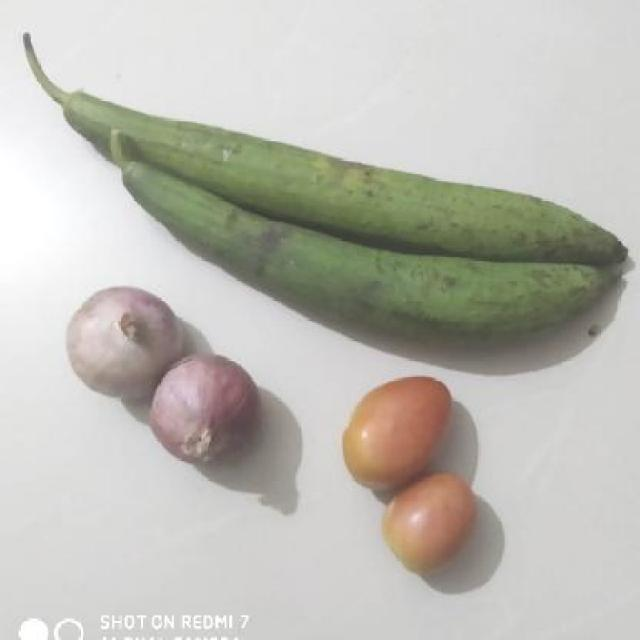onion: (136, 348, 276, 483), (48, 276, 184, 398)
tomato: (342, 364, 451, 488), (381, 470, 476, 576)
